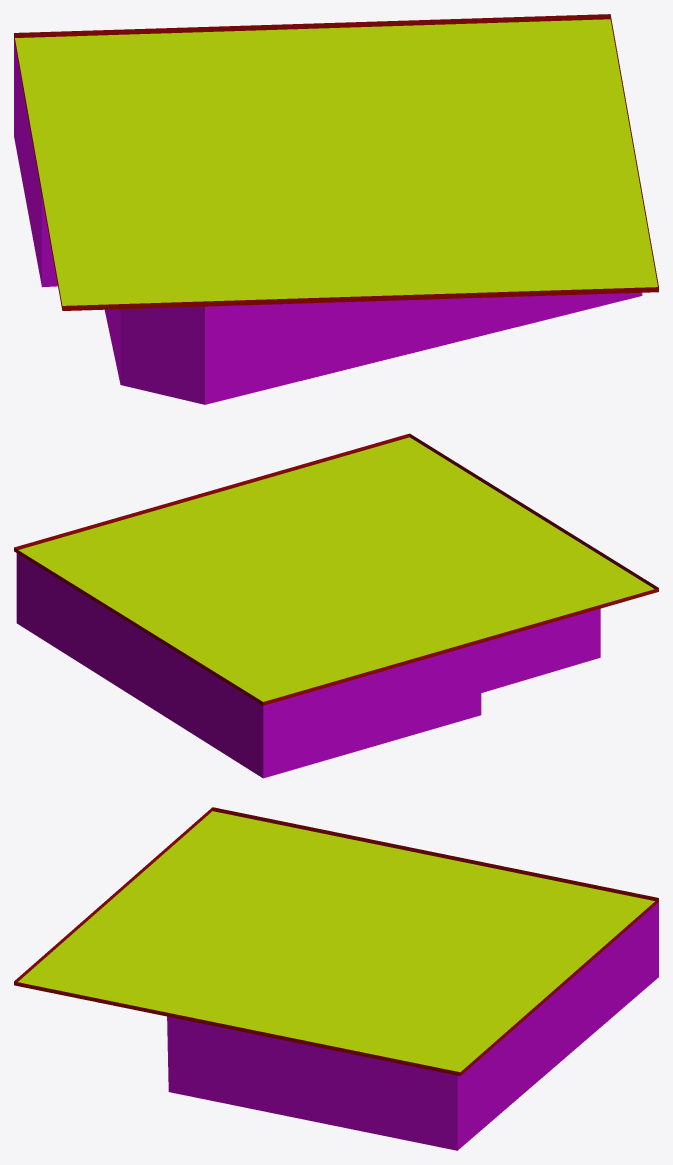
File: rmc_52.glb
3 renders of one model, top to bottom at view 1: azimuth 30°, elevation 25°; view 2: azimuth 150°, elevation 25°; view 3: azimuth 270°, elevation 25°, orthographic. The views are drawn at different scales.
Parts seen in each view (by area): view 1: rmc_52; view 2: rmc_52; view 3: rmc_52.
Part boxes in pixels (bbox=[...]): rmc_52: bbox=[14, 14, 658, 404]; rmc_52: bbox=[14, 433, 658, 778]; rmc_52: bbox=[14, 807, 658, 1150].
Bounding box in the file's own units: 50.39 × 7.01 × 51.81.
